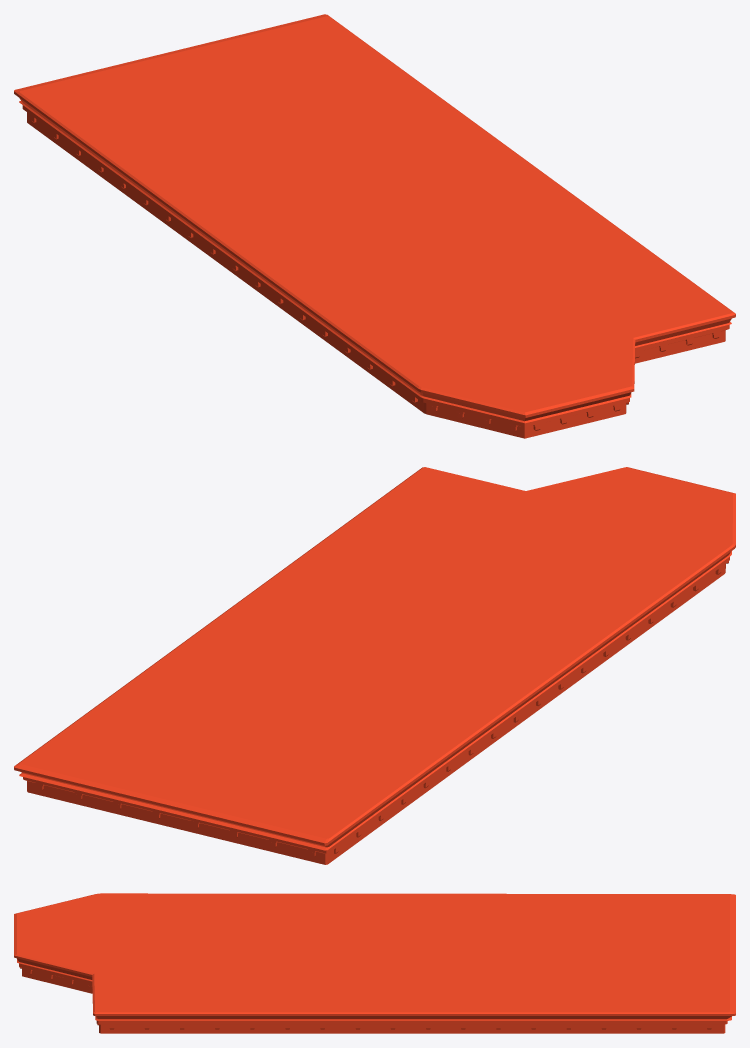
File: SM_Bayhouse_Roof_B_City.fbx
3 renders of one model, top to bottom at view 1: azimuth 30°, elevation 25°; view 2: azimuth 150°, elevation 25°; view 3: azimuth 270°, elevation 25°, orthographic. The views are drawn at different scales.
Visible parts, largest first — view 1: SM_Bayhouse_Roof_B_City; view 2: SM_Bayhouse_Roof_B_City; view 3: SM_Bayhouse_Roof_B_City.
Part boxes in pixels (box(x1,y1,x2,y2)): SM_Bayhouse_Roof_B_City: box(14, 14, 735, 438); SM_Bayhouse_Roof_B_City: box(14, 467, 735, 864); SM_Bayhouse_Roof_B_City: box(14, 893, 735, 1033).
Bounding box in the file's own units: 6.39 × 0.5688 × 16.21.
